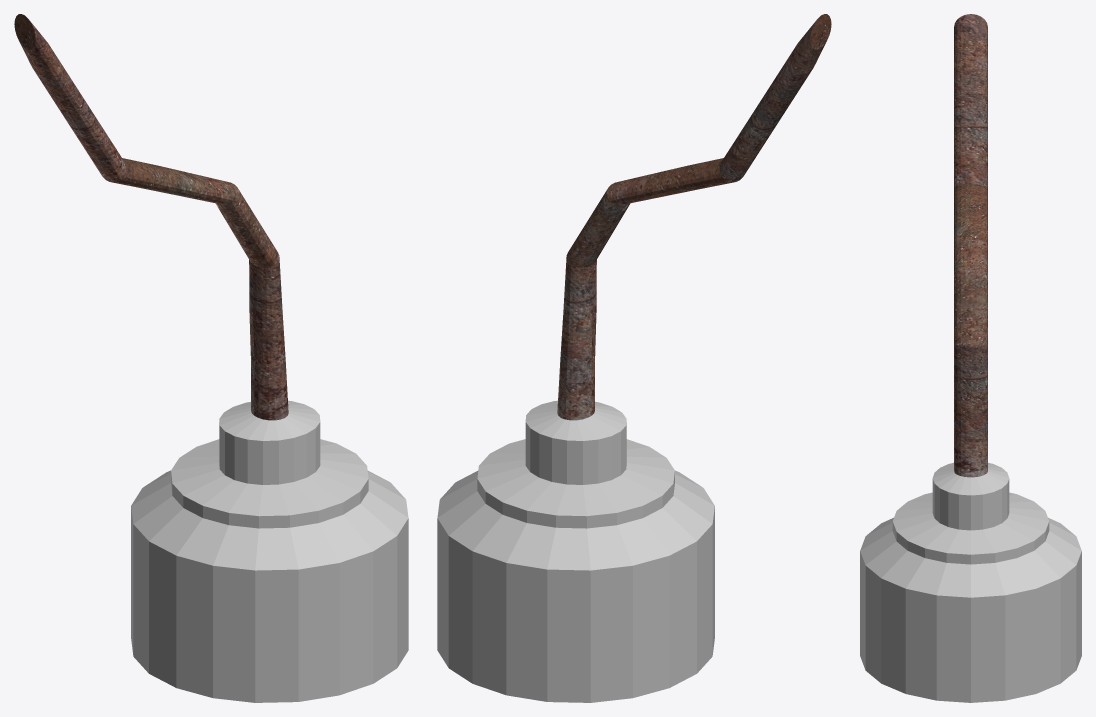
File: canister.fbx
3 views of the same model, side by side, from view 1: azimuth 30°, elevation 25°; view 2: azimuth 150°, elevation 25°; view 3: azimuth 270°, elevation 25° (orthographic). The views are drawn at different scales.
Parts seen in each view (by area): view 1: pCylinder1; view 2: pCylinder1; view 3: pCylinder1.
Part boxes in pixels (x1,y1,x2,y2): pCylinder1: [14, 14, 408, 702]; pCylinder1: [437, 14, 831, 702]; pCylinder1: [860, 14, 1081, 702].
Bounding box in the file's own units: 22.86 × 41.14 × 15.11.
